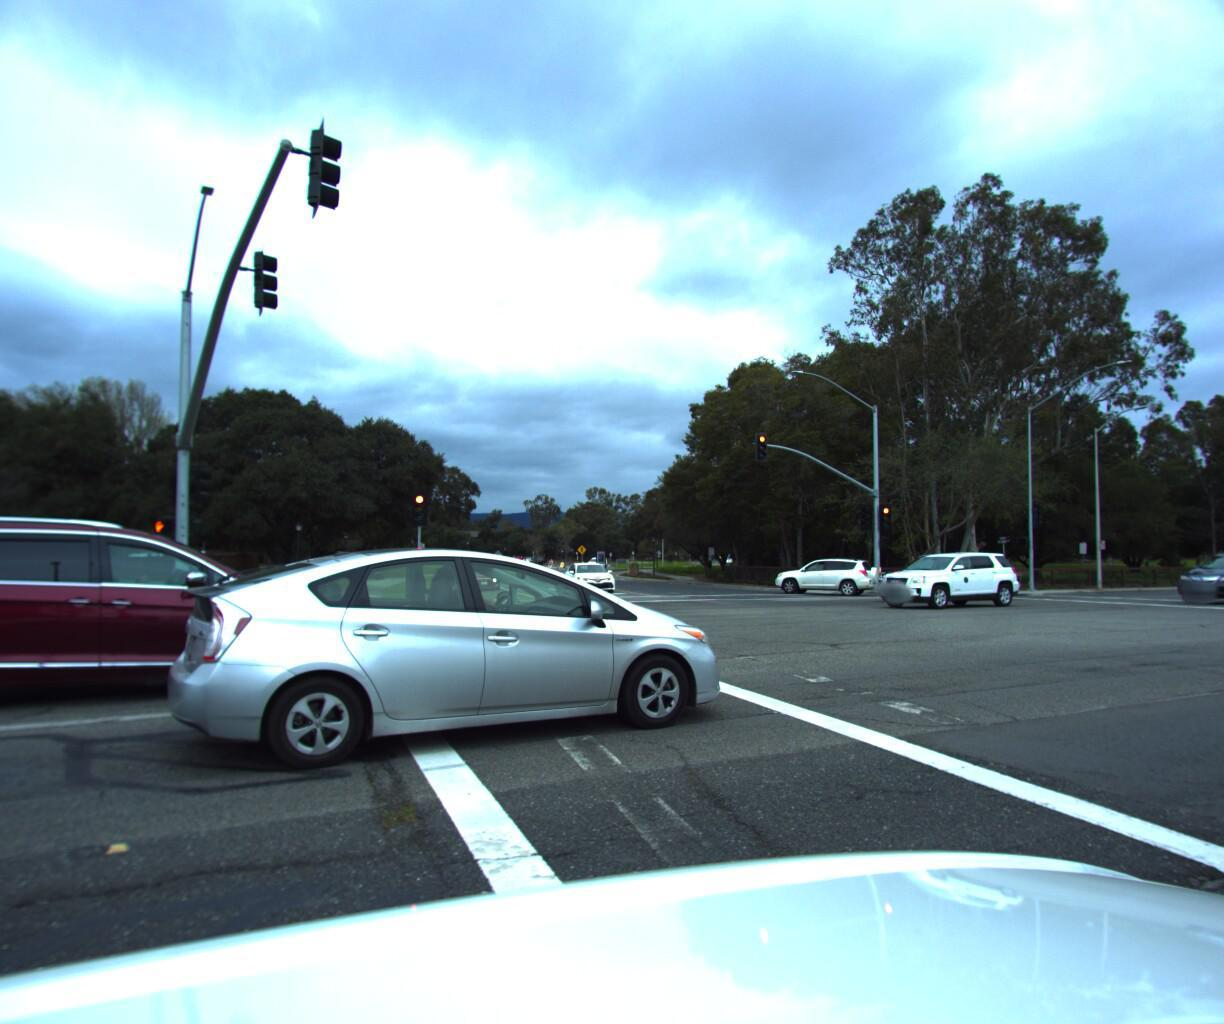car: (172, 535, 739, 782), (0, 506, 366, 750), (865, 545, 1023, 605), (862, 546, 997, 597), (771, 551, 883, 591), (1163, 552, 1224, 602), (556, 558, 619, 591), (465, 559, 503, 587)
